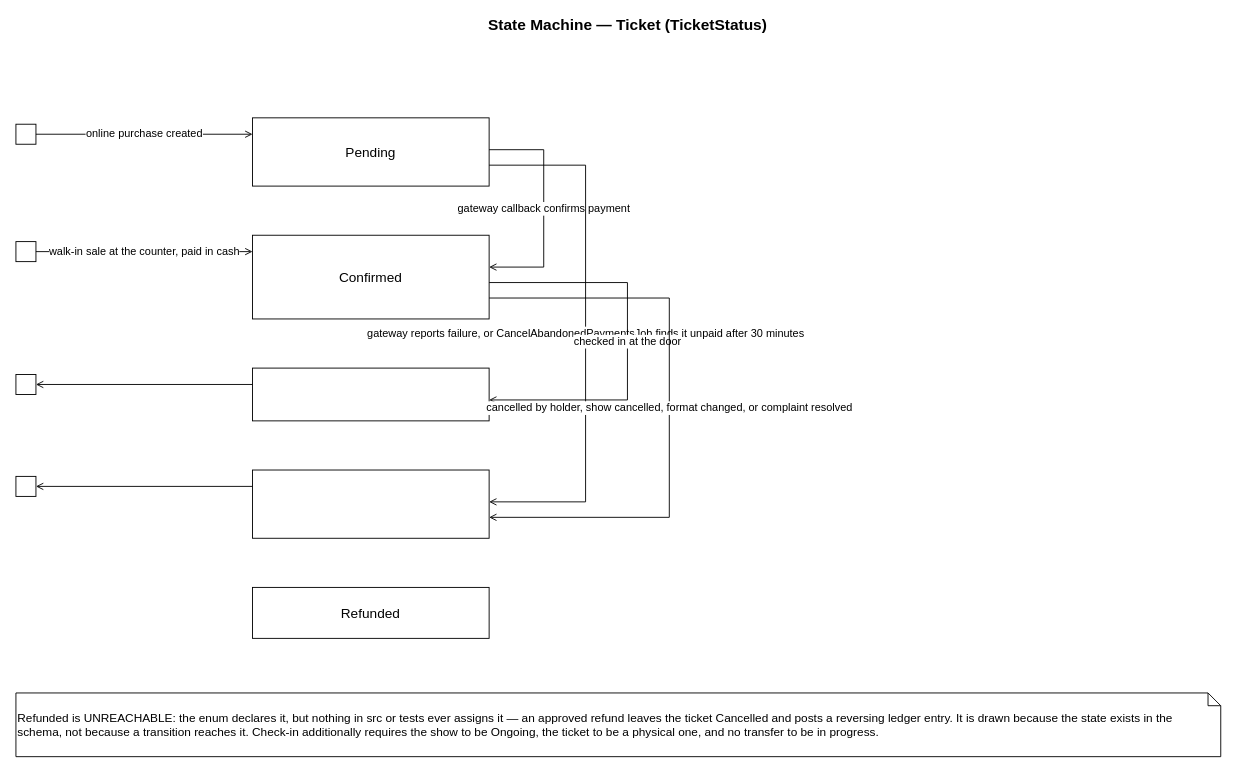
Some shapes in this 1237 by 773 pixel diagram are drawn without their labels. Here are the shapes that lost their labels. From the top down, the box of each, then its label:
(252, 367, 489, 421): Used
(252, 469, 489, 538): Cancelled
